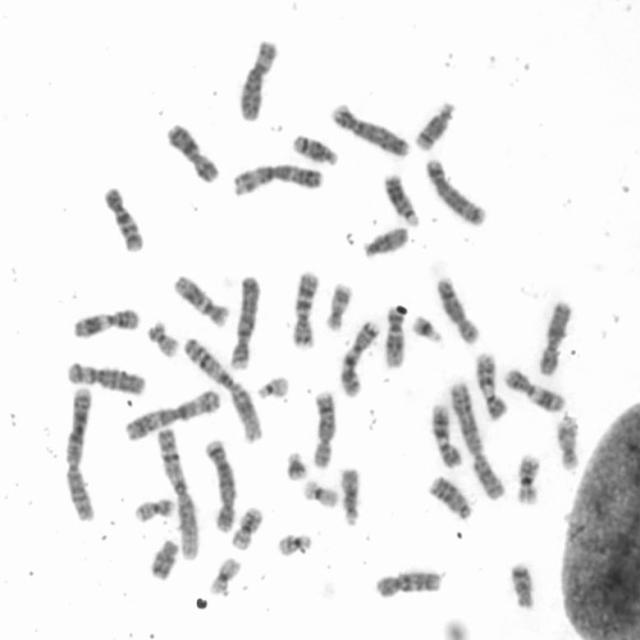A1: (182, 337, 265, 445), (152, 425, 202, 561)
A2: (449, 381, 507, 499), (62, 386, 94, 526)
A3: (124, 389, 222, 441), (228, 164, 326, 201)
B4: (327, 100, 412, 158), (229, 276, 264, 370)
B5: (423, 157, 491, 230), (200, 439, 239, 534)
C10: (102, 182, 146, 254), (374, 571, 444, 600)
C11: (504, 367, 568, 414), (72, 308, 140, 343)
C12: (171, 274, 231, 328), (382, 304, 409, 372)
C6: (237, 38, 282, 123), (66, 361, 147, 395)
C7: (338, 322, 382, 402), (288, 269, 322, 350)
C8: (438, 277, 482, 345), (310, 391, 337, 470)
C9: (474, 349, 510, 422), (428, 403, 463, 471)
D13: (382, 171, 422, 226), (425, 475, 473, 520)
D14: (413, 98, 457, 155), (290, 133, 341, 167)
D15: (361, 224, 410, 260), (340, 466, 362, 528)
E16: (514, 454, 543, 508), (230, 506, 264, 552)
E17: (322, 280, 354, 334), (555, 412, 583, 473)
E18: (507, 560, 538, 612), (148, 538, 179, 584)
F19: (208, 554, 244, 596), (300, 477, 340, 508)
F20: (146, 320, 180, 360), (134, 498, 176, 524)
G21: (411, 315, 446, 345), (283, 450, 309, 482)
G22: (273, 532, 314, 558), (257, 374, 291, 400)
X: (162, 123, 220, 186), (538, 299, 574, 375)
